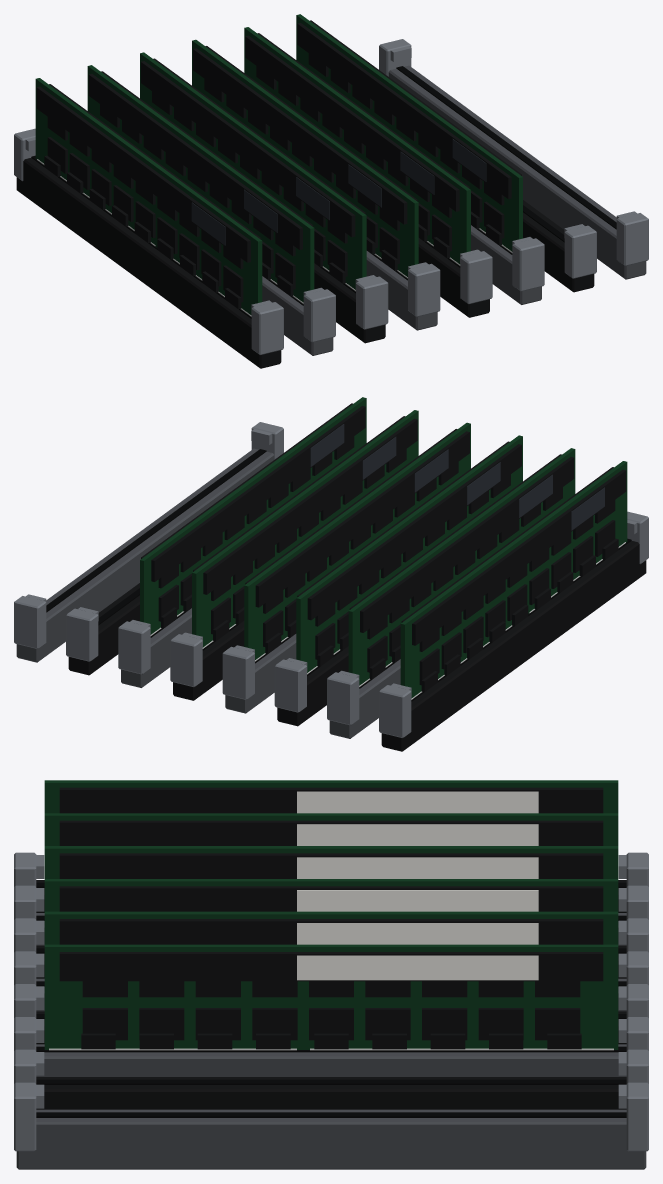
File: hwm_ram_ddr4_384gb.glb
The picture shows the model from 3 angles, top to bottom: view 1: azimuth 30°, elevation 25°; view 2: azimuth 150°, elevation 25°; view 3: azimuth 270°, elevation 25°; orthographic projection. The views are drawn at different scales.
Parts seen in each view (by area): view 1: Slots, Stick_0, Stick_1, Stick_4, Stick_3, Stick_2, Stick_5, Latch_2_1, Latch_1_1, Latch_4_1, Latch_0_1, Latch_5_1 (+5 smaller); view 2: Slots, Stick_0, Stick_1, Stick_4, Stick_3, Stick_2, Stick_5, Latch_2_0, Latch_1_0, Latch_4_0, Latch_0_0, Latch_5_0 (+5 smaller); view 3: Slots, Stick_5, Stick_0, Stick_4, Stick_1, Stick_2, Stick_3, Latch_7_0, Latch_7_1, Latch_2_0, Latch_2_1, Latch_6_0 (+11 smaller).
Part boxes in pixels (x1,y1,x2,y2): Slots: (16, 65, 646, 368); Stick_0: (35, 78, 262, 316); Stick_1: (87, 65, 314, 303); Stick_4: (244, 27, 470, 265); Stick_3: (192, 39, 418, 278); Stick_2: (140, 52, 366, 291); Stick_5: (296, 14, 522, 252); Latch_2_1: (355, 275, 388, 329); Latch_1_1: (303, 287, 335, 342); Latch_4_1: (460, 249, 492, 303); Latch_0_1: (251, 300, 283, 354); Latch_5_1: (512, 237, 544, 291); Slots: (16, 448, 646, 751); Stick_0: (400, 461, 627, 699); Stick_1: (348, 448, 575, 686); Stick_4: (192, 410, 418, 648); Stick_3: (244, 422, 470, 661); Stick_2: (296, 435, 522, 674); Stick_5: (140, 397, 366, 635); Latch_2_0: (274, 658, 307, 712); Latch_1_0: (327, 670, 359, 725); Latch_4_0: (170, 632, 202, 686); Latch_0_0: (379, 683, 411, 737); Latch_5_0: (118, 620, 150, 674); Slots: (16, 880, 646, 1169); Stick_5: (44, 944, 618, 1050); Stick_0: (44, 780, 618, 813); Stick_4: (44, 911, 618, 944); Stick_1: (44, 813, 618, 845); Stick_2: (44, 846, 618, 878); Stick_3: (44, 879, 618, 911); Latch_7_0: (618, 1082, 648, 1151); Latch_7_1: (14, 1082, 44, 1151); Latch_2_0: (618, 918, 648, 952); Latch_2_1: (14, 918, 44, 952); Latch_6_0: (618, 1049, 648, 1083).
Size of the model in its own units: 0.1346 by 0.0389 by 0.1472.
